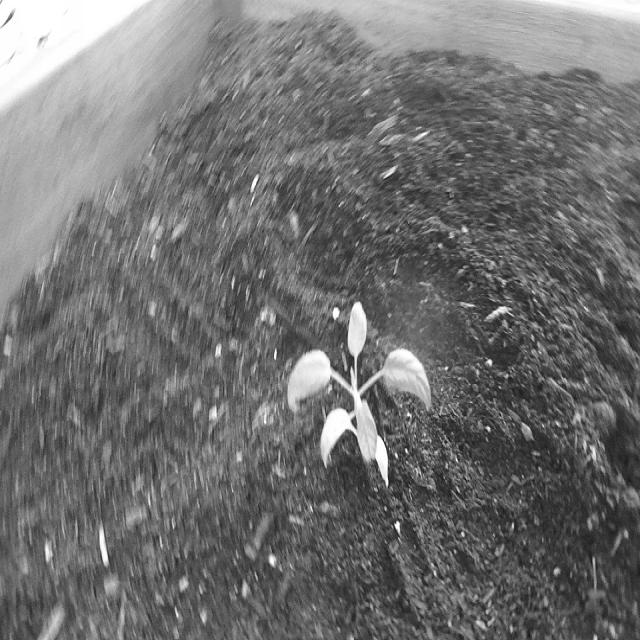Healthy: (276, 265, 449, 507)
